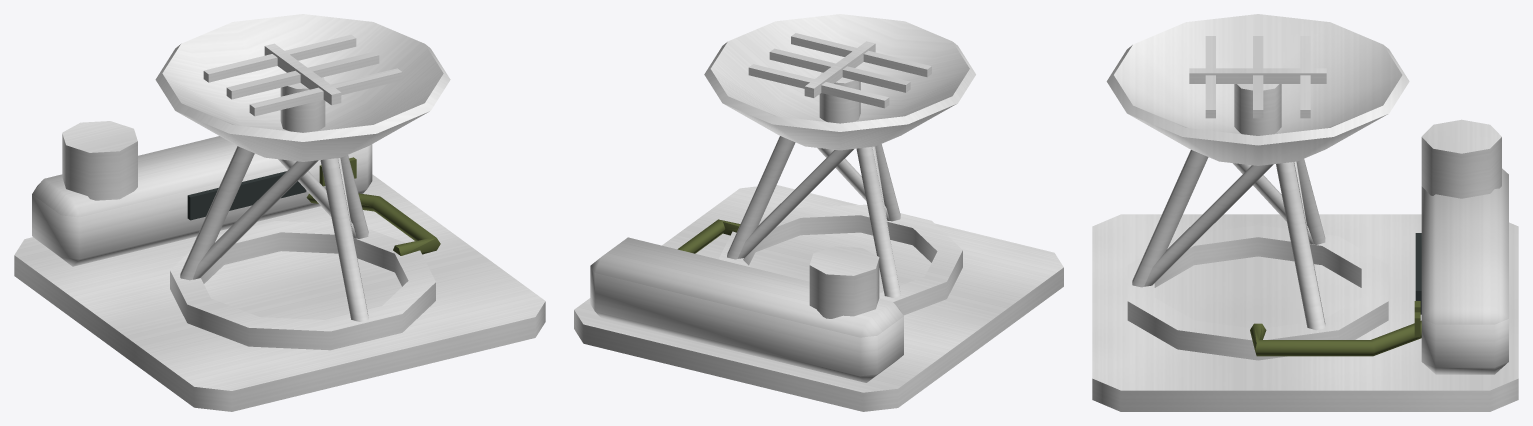
Rendered from mechband_dish.obj.
The picture shows the model from 3 angles, left to right: view 1: azimuth 30°, elevation 25°; view 2: azimuth 150°, elevation 25°; view 3: azimuth 270°, elevation 25°; orthographic projection. The views are drawn at different scales.
Visible parts, largest first — view 1: source_component_000, source_component_013, source_component_001, source_component_006, source_component_005, source_component_011, source_component_009, source_component_010, source_component_015, source_component_016, source_component_017, source_component_019 (+5 smaller); view 2: source_component_000, source_component_001, source_component_013, source_component_006, source_component_005, source_component_009, source_component_007, source_component_008, source_component_016, source_component_017, source_component_015, source_component_014 (+4 smaller); view 3: source_component_000, source_component_013, source_component_001, source_component_006, source_component_005, source_component_007, source_component_019, source_component_011, source_component_012, source_component_014, source_component_018, source_component_009 (+5 smaller).
Boxes of the visible parts, x1=… form: source_component_000: x1=14, y1=174, x2=545, y2=411; source_component_013: x1=155, y1=14, x2=450, y2=161; source_component_001: x1=32, y1=136, x2=372, y2=266; source_component_006: x1=170, y1=221, x2=435, y2=350; source_component_005: x1=62, y1=121, x2=137, y2=200; source_component_011: x1=320, y1=158, x2=368, y2=321; source_component_009: x1=180, y1=146, x2=254, y2=280; source_component_010: x1=193, y1=160, x2=318, y2=279; source_component_015: x1=249, y1=68, x2=402, y2=116; source_component_016: x1=226, y1=51, x2=379, y2=99; source_component_017: x1=203, y1=34, x2=356, y2=82; source_component_019: x1=306, y1=188, x2=440, y2=255; source_component_000: x1=574, y1=185, x2=1063, y2=411; source_component_001: x1=590, y1=237, x2=903, y2=382; source_component_013: x1=704, y1=14, x2=975, y2=150; source_component_006: x1=718, y1=204, x2=962, y2=315; source_component_005: x1=809, y1=246, x2=879, y2=318; source_component_009: x1=856, y1=147, x2=900, y2=297; source_component_007: x1=727, y1=136, x2=795, y2=259; source_component_008: x1=738, y1=149, x2=853, y2=258; source_component_016: x1=769, y1=48, x2=910, y2=92; source_component_017: x1=748, y1=64, x2=889, y2=108; source_component_015: x1=791, y1=33, x2=931, y2=77; source_component_014: x1=819, y1=72, x2=860, y2=123; source_component_000: x1=1092, y1=214, x2=1518, y2=411; source_component_013: x1=1106, y1=14, x2=1409, y2=165; source_component_001: x1=1421, y1=168, x2=1508, y2=374; source_component_006: x1=1127, y1=225, x2=1388, y2=360; source_component_005: x1=1421, y1=119, x2=1501, y2=198; source_component_007: x1=1276, y1=162, x2=1325, y2=330; source_component_019: x1=1250, y1=320, x2=1421, y2=356; source_component_011: x1=1132, y1=150, x2=1208, y2=287; source_component_012: x1=1144, y1=164, x2=1273, y2=286; source_component_014: x1=1234, y1=84, x2=1281, y2=135; source_component_018: x1=1189, y1=68, x2=1326, y2=83; source_component_009: x1=1297, y1=159, x2=1325, y2=244.
Size of the model in its own units: 1.76 by 1.18 by 1.8.
